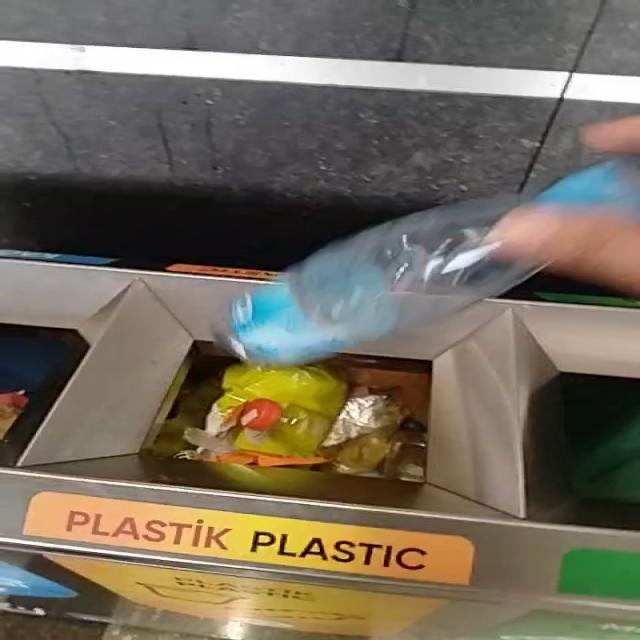Plastic: (231, 158, 640, 365)
